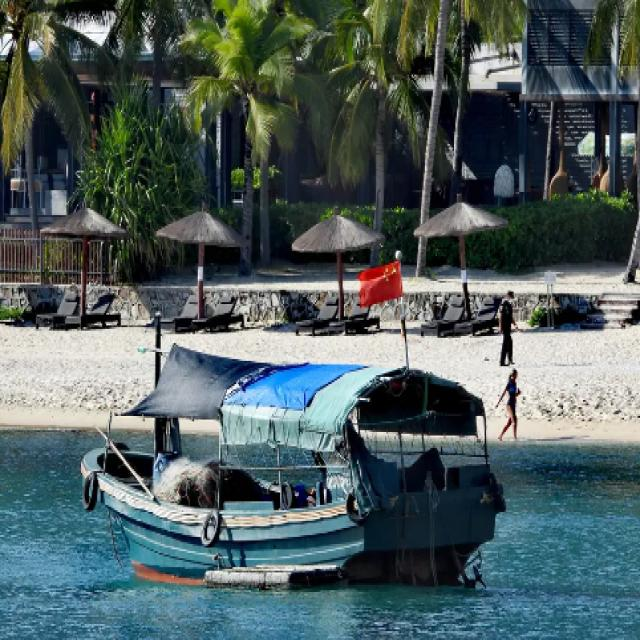fishing boat: (83, 318, 489, 592)
